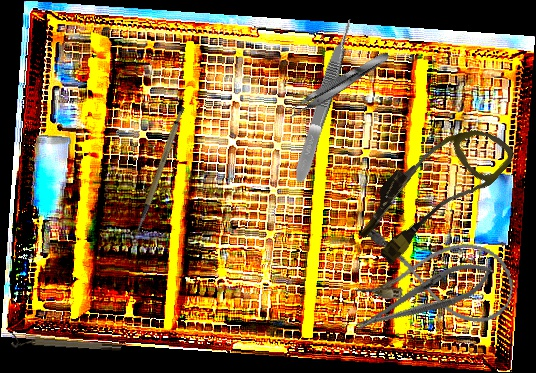Cannula: (346, 101, 519, 279), (350, 220, 522, 329)
Fixation Ring: (11, 332, 122, 358)
Needle Holder: (349, 251, 500, 344)
Scalpel Handle: (117, 104, 201, 232)
Tissue Forceps: (290, 17, 360, 184), (284, 48, 393, 122)
